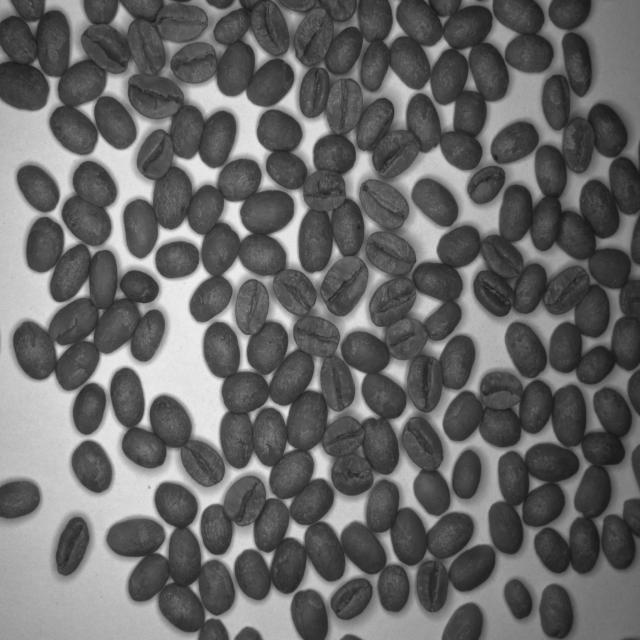bad: (300, 168, 356, 212), (333, 451, 377, 499)
good: (10, 314, 60, 387), (519, 432, 586, 486), (125, 65, 185, 125), (586, 91, 635, 164), (567, 460, 622, 525), (577, 176, 628, 244), (464, 266, 518, 328), (409, 174, 466, 232), (371, 120, 424, 182), (80, 19, 134, 79), (88, 93, 141, 154), (580, 236, 636, 293), (411, 253, 466, 311), (464, 44, 518, 103), (266, 344, 315, 409), (588, 382, 636, 448), (574, 332, 622, 398), (398, 413, 449, 475), (319, 253, 368, 317), (64, 438, 119, 495), (371, 220, 426, 277), (356, 175, 409, 233), (368, 273, 420, 332), (528, 135, 573, 203), (154, 582, 209, 637), (121, 16, 169, 79), (386, 506, 433, 570), (449, 542, 498, 603), (596, 510, 638, 581), (434, 220, 487, 276), (503, 319, 550, 382), (537, 69, 579, 139), (224, 468, 267, 536), (403, 350, 446, 418), (504, 28, 558, 82), (515, 482, 571, 534), (354, 482, 405, 539), (336, 523, 388, 578), (306, 522, 348, 590), (196, 106, 240, 170), (46, 102, 100, 154), (48, 294, 100, 348), (240, 187, 296, 237), (388, 32, 436, 90), (545, 262, 593, 320), (329, 69, 367, 142), (250, 2, 296, 62), (234, 273, 274, 341), (494, 444, 534, 512), (373, 559, 413, 627), (166, 38, 220, 88), (13, 159, 62, 214), (554, 209, 603, 264), (104, 515, 168, 557), (268, 264, 316, 320), (440, 388, 486, 446), (195, 501, 238, 563), (242, 226, 290, 281), (403, 93, 447, 153), (514, 374, 554, 440), (560, 114, 600, 180), (561, 29, 598, 100), (165, 522, 206, 586), (482, 502, 525, 563), (230, 546, 276, 603), (429, 48, 471, 110), (266, 446, 316, 498), (308, 132, 361, 181), (322, 578, 376, 626), (603, 154, 640, 224), (549, 388, 590, 451), (250, 406, 289, 472), (24, 213, 66, 274), (154, 164, 194, 228), (492, 112, 542, 163), (183, 273, 236, 321), (291, 311, 345, 358), (59, 196, 114, 242), (329, 198, 369, 261), (513, 253, 548, 325), (271, 534, 307, 604), (537, 584, 582, 640), (152, 393, 196, 450), (153, 477, 202, 528), (396, 0, 447, 49), (72, 158, 120, 210), (129, 301, 168, 365), (248, 318, 289, 378), (288, 388, 327, 451), (57, 57, 108, 105), (529, 190, 565, 258), (287, 588, 334, 640), (298, 5, 333, 74), (125, 197, 161, 264), (218, 413, 258, 473), (534, 524, 576, 581), (482, 231, 527, 284), (363, 419, 402, 480), (440, 8, 495, 51), (215, 370, 274, 410), (247, 58, 296, 106), (53, 344, 104, 390), (341, 332, 392, 378), (110, 366, 149, 426), (48, 245, 89, 302), (383, 316, 433, 362), (286, 479, 336, 525), (320, 360, 361, 416), (568, 515, 602, 582), (57, 515, 92, 580), (98, 298, 140, 352), (203, 324, 245, 378), (361, 372, 409, 419), (123, 426, 168, 476), (298, 211, 332, 277), (414, 562, 454, 618), (203, 220, 242, 277), (436, 601, 493, 640), (550, 320, 587, 380), (261, 148, 309, 194), (198, 564, 240, 616), (499, 181, 531, 249), (220, 38, 255, 100), (443, 330, 478, 392), (491, 0, 548, 38), (0, 14, 40, 68), (137, 126, 177, 179), (156, 237, 202, 283), (124, 558, 174, 600), (454, 85, 492, 140), (448, 449, 486, 504), (577, 278, 612, 337), (476, 407, 524, 450), (298, 68, 332, 128), (466, 157, 506, 208), (430, 512, 476, 556), (411, 471, 457, 515), (440, 129, 487, 172), (40, 12, 71, 76), (212, 162, 264, 200), (0, 477, 42, 524), (71, 384, 110, 434), (154, 5, 208, 41), (188, 187, 226, 238), (170, 102, 205, 156), (330, 23, 364, 78), (3, 68, 47, 110), (476, 367, 518, 410), (321, 413, 364, 455), (258, 500, 290, 556), (255, 110, 302, 148), (361, 97, 396, 148), (184, 443, 226, 485), (122, 264, 160, 308), (91, 250, 120, 307), (363, 36, 389, 96), (359, 0, 396, 41), (504, 582, 536, 626)
